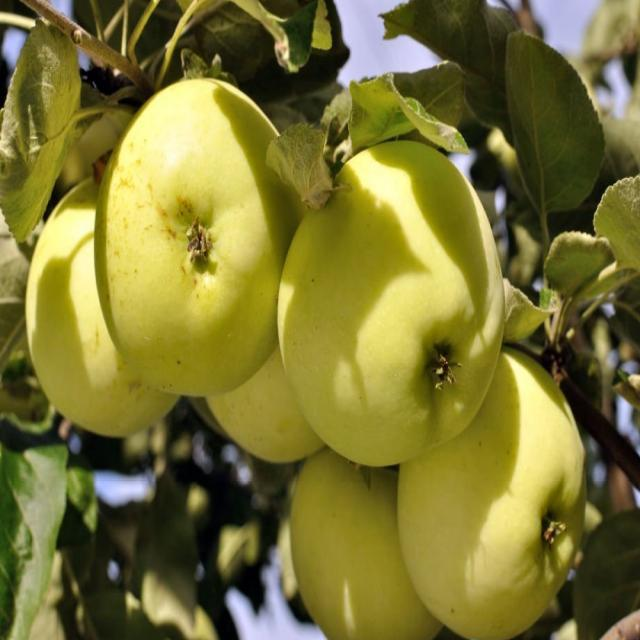Green Apple: (284, 120, 501, 453), (105, 85, 310, 388), (404, 355, 587, 632), (30, 172, 184, 455), (283, 416, 466, 640), (196, 240, 330, 473)
